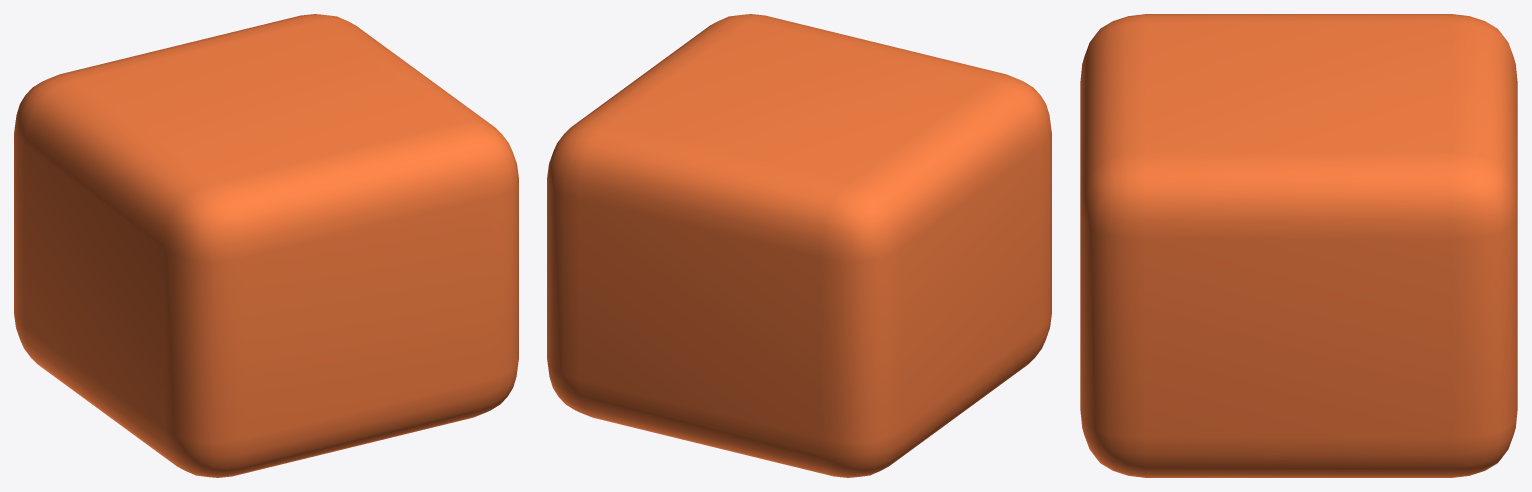
File: _SimpleJuicyCube.fbx
The picture shows the model from 3 angles, left to right: view 1: azimuth 30°, elevation 25°; view 2: azimuth 150°, elevation 25°; view 3: azimuth 270°, elevation 25°; orthographic projection. The views are drawn at different scales.
Parts seen in each view (by area): view 1: Box026; view 2: Box026; view 3: Box026.
Part boxes in pixels (x1,y1,x2,y2): Box026: [14, 14, 518, 477]; Box026: [547, 14, 1051, 477]; Box026: [1080, 14, 1517, 477].
Bounding box in the file's own units: 100 × 80 × 100.
